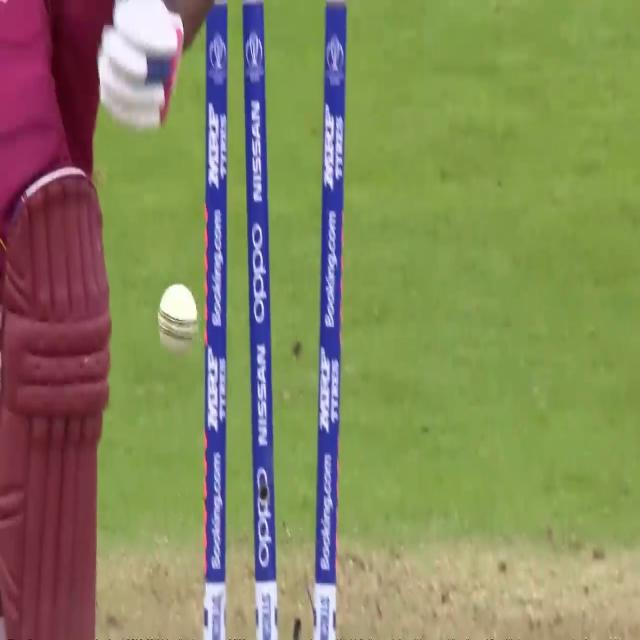ball: (152, 268, 200, 364)
